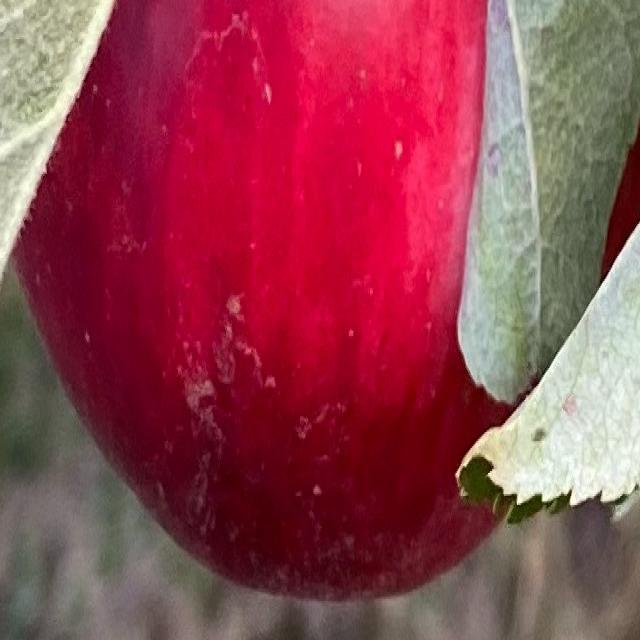Apples: (14, 0, 639, 601)
